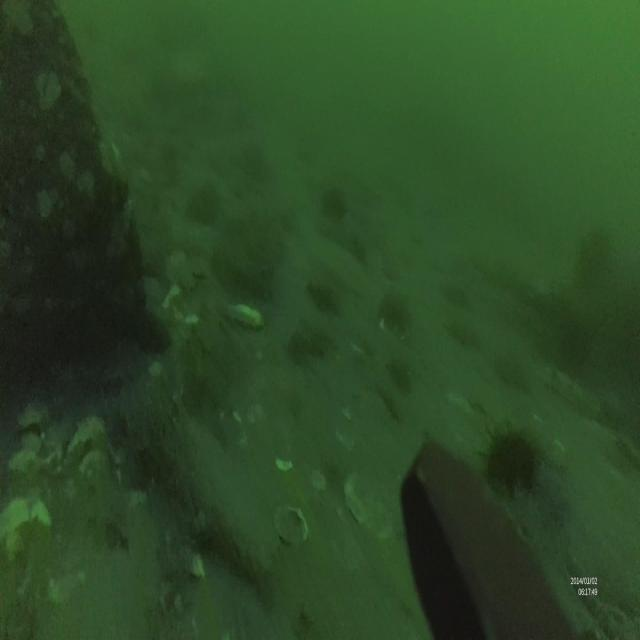echinus: (477, 421, 545, 501)
